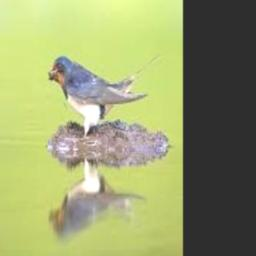Swallow: (49, 55, 162, 138)
